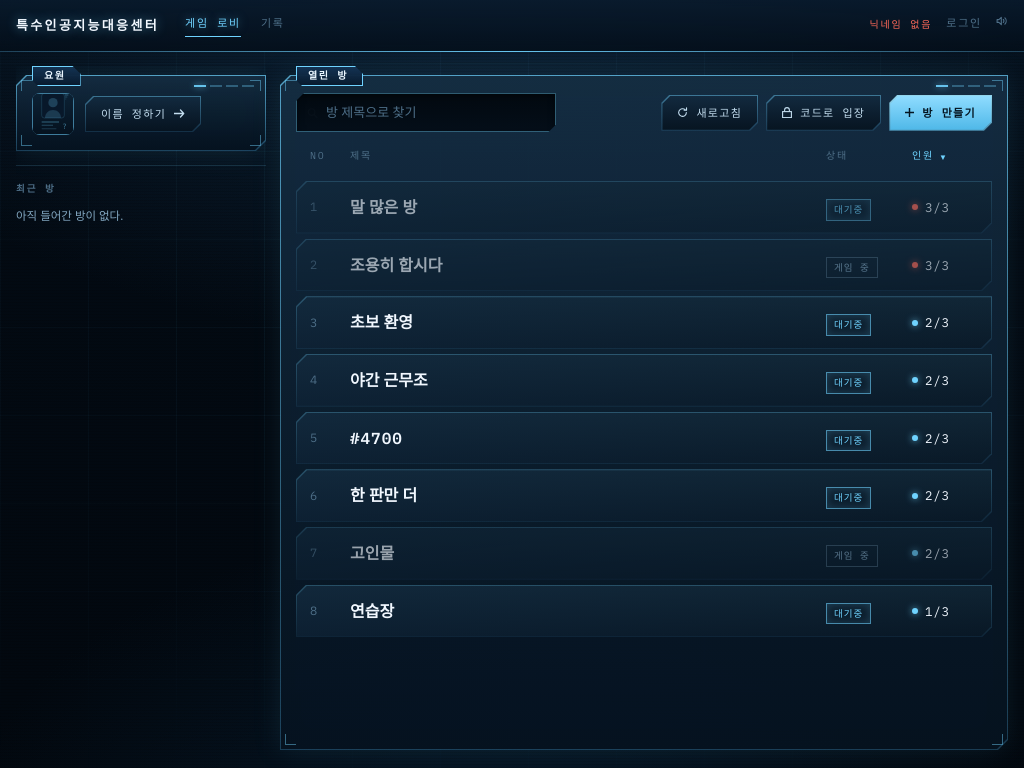
게임 로비 — 목록에서 방으로 › 제목으로 찾으면 그 방만 남는다 (띄어쓰기는 안 따진다)
Type "말많은" into the field named "방 제목 검색". click: (426, 113)
box: [296,93,556,132]
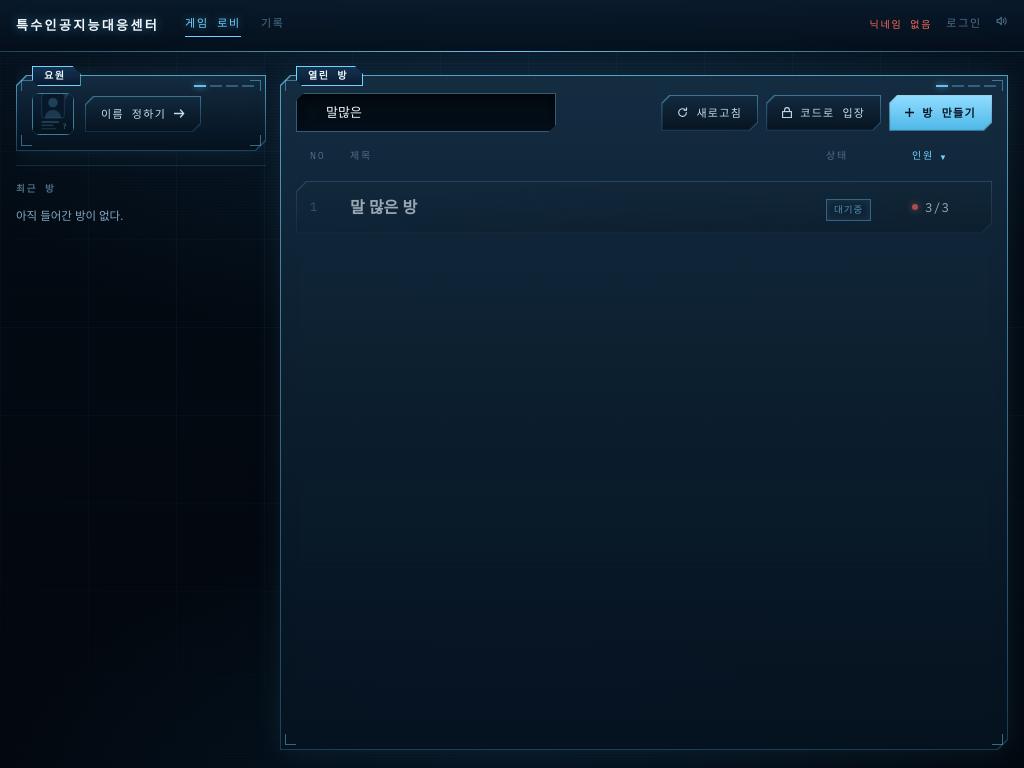
expect the button "1 말 많은 방 대기중 3/3" is shown: met, box [296,181,992,234]
expect the button "야간 근무조" is gone: met
